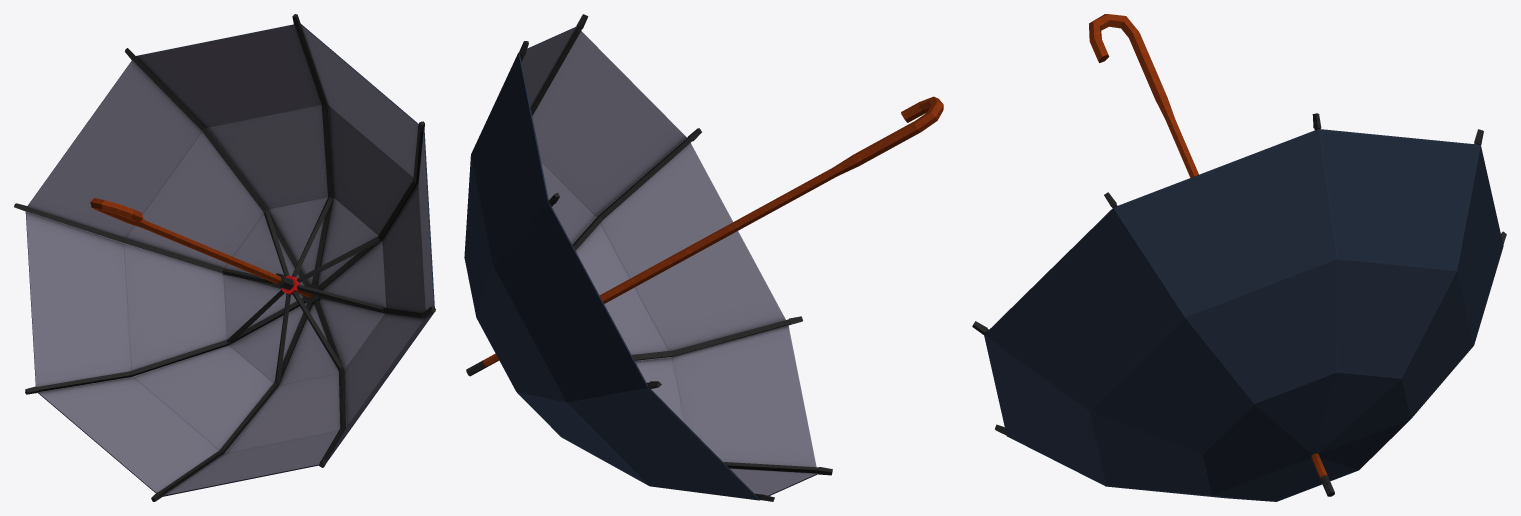
File: UmbrellaAnimation.fbx
3 renders of one model, left to right at view 1: azimuth 30°, elevation 25°; view 2: azimuth 150°, elevation 25°; view 3: azimuth 270°, elevation 25°, orthographic. The views are drawn at different scales.
Visible parts, largest first — view 1: Umbrella; view 2: Umbrella; view 3: Umbrella.
Part boxes in pixels (left/top/right/bottom): Umbrella: left=14, top=14, right=435, bottom=501; Umbrella: left=464, top=14, right=943, bottom=501; Umbrella: left=972, top=14, right=1506, bottom=501.
Bounding box in the file's own units: 241 × 252 × 270.
